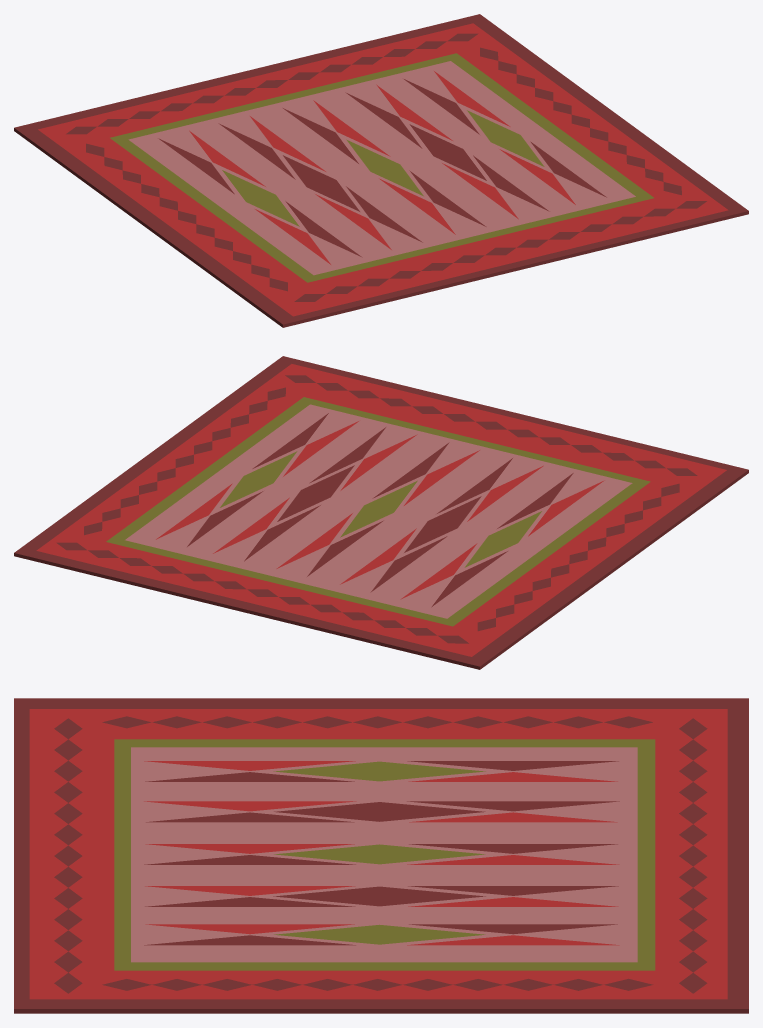
The model's file is Carpet_16.fbx.
3 views of the same model, one above another, from view 1: azimuth 30°, elevation 25°; view 2: azimuth 150°, elevation 25°; view 3: azimuth 270°, elevation 25° (orthographic). The views are drawn at different scales.
Visible parts, largest first — view 1: Carpet_16; view 2: Carpet_16; view 3: Carpet_16.
Part boxes in pixels (left/top/right/bottom): Carpet_16: left=14, top=14, right=748, bottom=327; Carpet_16: left=14, top=356, right=748, bottom=669; Carpet_16: left=14, top=698, right=748, bottom=1013.
Size of the model in its own units: 352 by 352 by 3.13.
